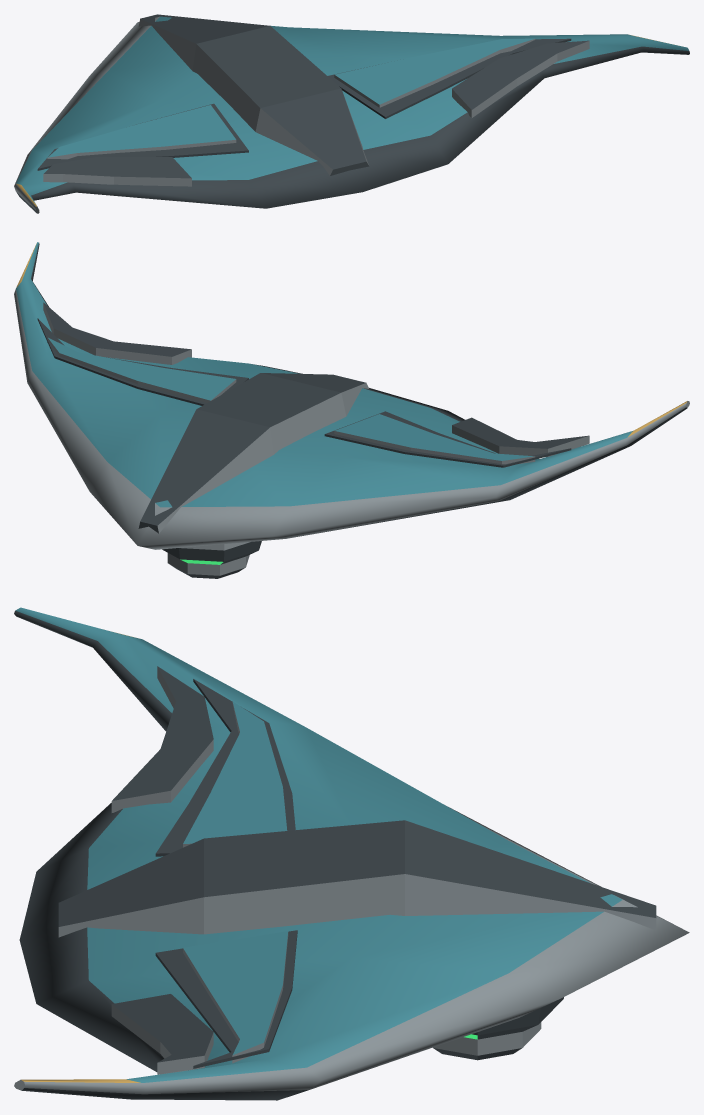
Rendered from far.glb.
3 views of the same model, one above another, from view 1: azimuth 30°, elevation 25°; view 2: azimuth 150°, elevation 25°; view 3: azimuth 270°, elevation 25° (orthographic). The views are drawn at different scales.
Visible parts, largest first — view 1: Skat; view 2: Skat; view 3: Skat.
Part boxes in pixels (left/top/right/bottom): Skat: left=14, top=14, right=689, bottom=213; Skat: left=14, top=242, right=689, bottom=578; Skat: left=14, top=607, right=689, bottom=1100.
Bounding box in the file's own units: 2 × 0.386 × 1.21.
